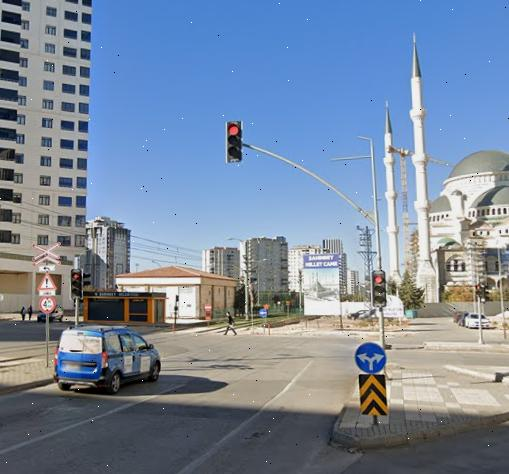redlight: (228, 123, 240, 160), (373, 271, 386, 305), (72, 271, 82, 293)
